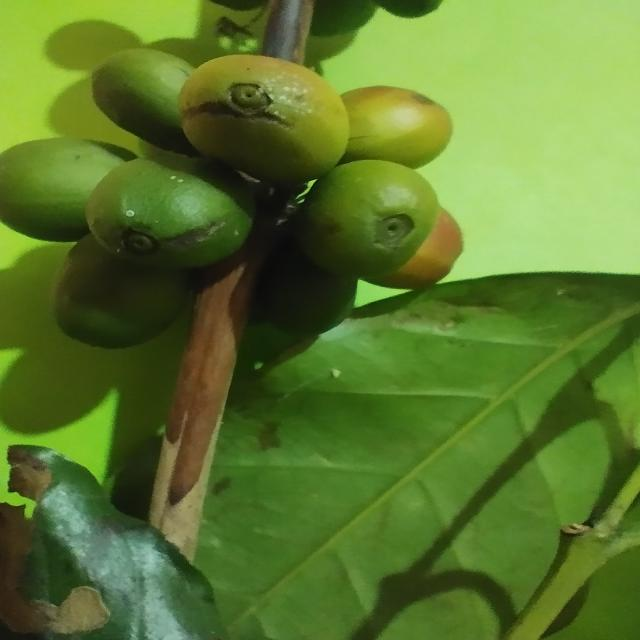Sano: (175, 54, 355, 188), (282, 158, 449, 286), (84, 157, 257, 274), (0, 138, 134, 244), (90, 46, 198, 158), (340, 86, 454, 173)
